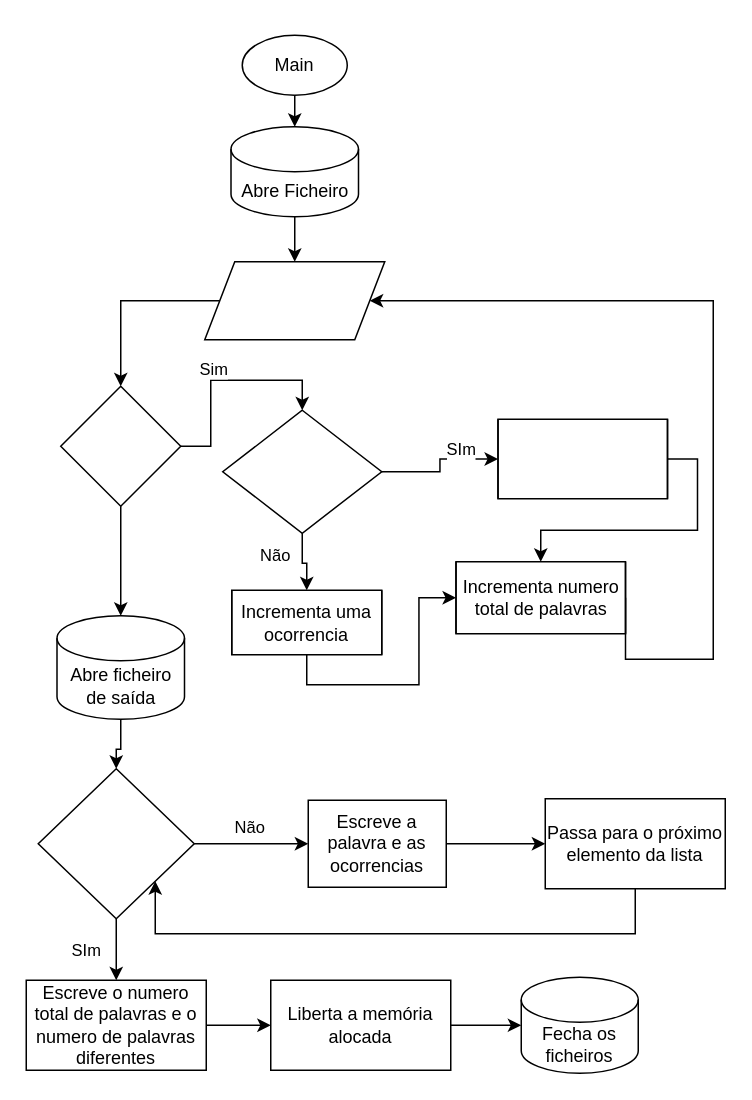
Image size: 752x1100. Some labels were removed from this diagram. Here are the shapes that lost their labels. From the top down, the centre of each, then its label:
At pixel 294 300: "Lê palavra".
At pixel 120 445: "Ainda há palavras?".
At pixel 582 458: "Adiciona palavra à lista e incrementa uma ocorrencia".
At pixel 301 471: "Palavra Nova?".
At pixel 115 843: "Já percorreu a lista toda?".
